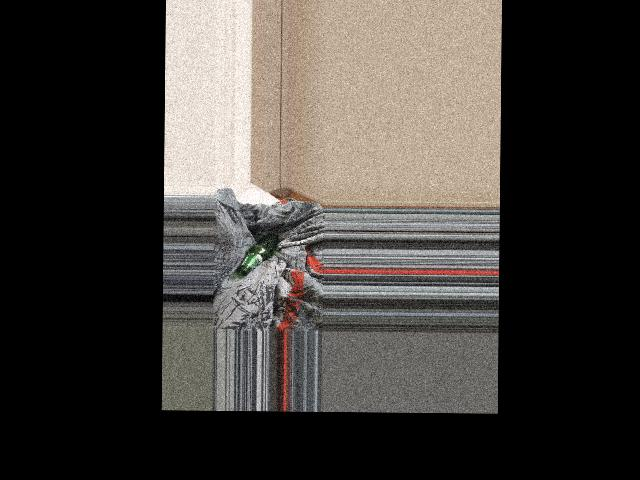beer: (237, 234, 278, 277)
